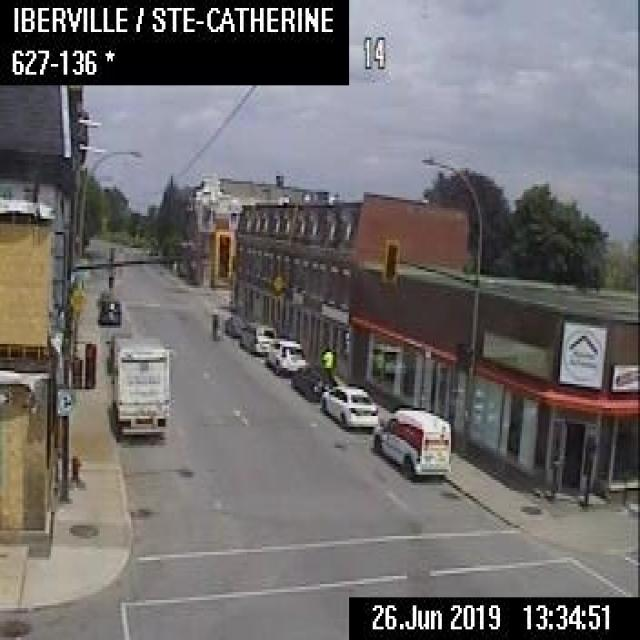pedestrian: (318, 344, 336, 376), (210, 309, 217, 340)
vehicle: (110, 333, 170, 437), (370, 404, 449, 476), (320, 383, 378, 427), (289, 360, 336, 400), (265, 336, 305, 374), (238, 320, 276, 351), (104, 332, 130, 372), (98, 298, 120, 323), (223, 314, 245, 335)
